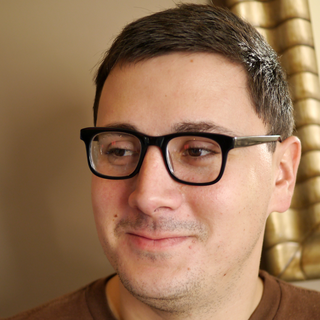eye: (176, 138, 219, 164), (102, 139, 140, 164)
